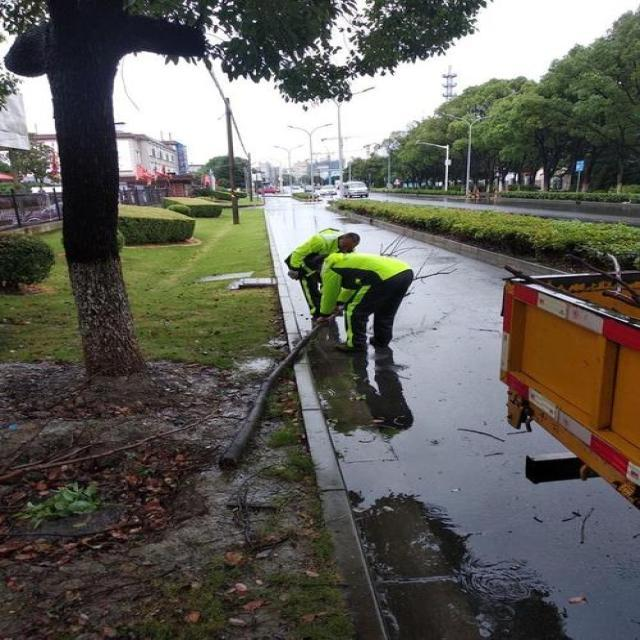fallen_object: (210, 222, 457, 474)
